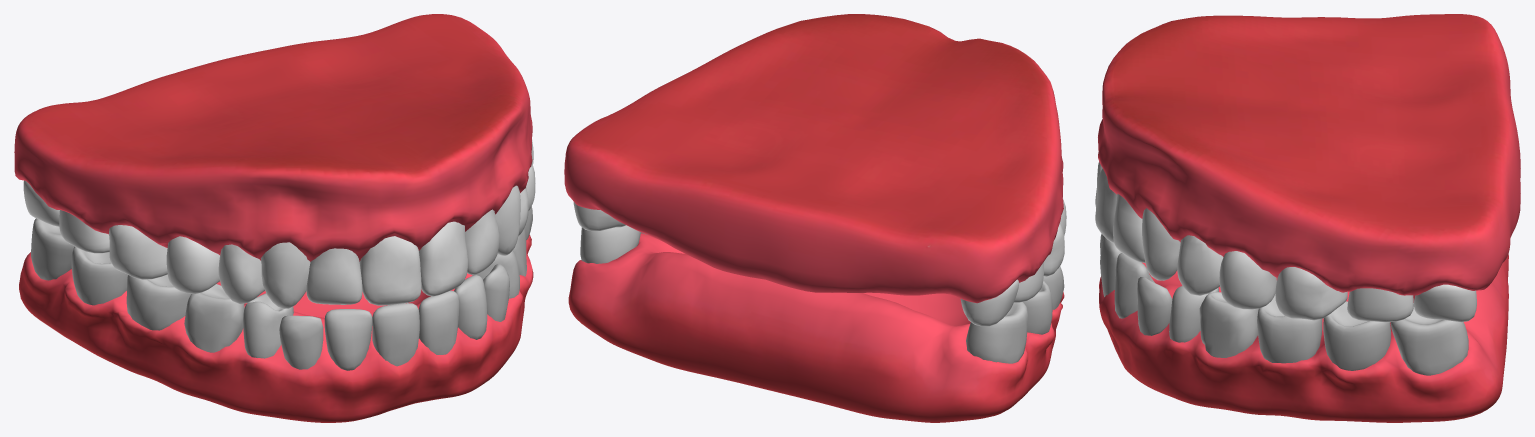
Rendered from mouth_model_optimized.glb.
3 views of the same model, side by side, from view 1: azimuth 30°, elevation 25°; view 2: azimuth 150°, elevation 25°; view 3: azimuth 270°, elevation 25° (orthographic). The views are drawn at different scales.
Visible parts, largest first — view 1: gum_upper, gum_lower, tooth_11, tooth_45, tooth_21, tooth_12, tooth_46, tooth_13, tooth_41, tooth_16, tooth_42, tooth_15 (+13 smaller); view 2: gum_upper, gum_lower, tooth_48, tooth_38, tooth_18, tooth_47, tooth_28, tooth_16, tooth_17, tooth_46; view 3: gum_upper, gum_lower, tooth_38, tooth_37, tooth_36, tooth_35, tooth_26, tooth_25, tooth_24, tooth_27, tooth_28, tooth_23 (+6 smaller).
Part boxes in pixels (x1,y1,x2,y2): gum_upper: (14,14,532,261); gum_lower: (19,234,533,422); tooth_11: (359,236,421,305); tooth_45: (184,284,244,352); tooth_21: (419,221,467,296); tooth_12: (306,248,362,304); tooth_46: (126,274,190,330); tooth_13: (260,242,310,308); tooth_41: (372,303,419,366); tooth_16: (109,225,167,279); tooth_42: (324,309,372,370); tooth_15: (166,236,219,293); gum_upper: (564,14,1063,303); gum_lower: (568,233,1064,422); tooth_48: (966,302,1027,363); tooth_38: (580,225,640,263); tooth_18: (960,279,1019,326); tooth_47: (1023,280,1052,334); tooth_28: (573,202,625,231); tooth_16: (1043,223,1064,276); tooth_17: (1014,262,1043,302); tooth_46: (1043,266,1064,309); gum_upper: (1098,14,1520,295); gum_lower: (1099,254,1508,422); tooth_38: (1390,303,1468,375); tooth_37: (1323,301,1390,370); tooth_36: (1257,294,1322,363); tooth_35: (1199,292,1258,357); tooth_26: (1275,267,1347,320); tooth_25: (1219,251,1276,309); tooth_24: (1177,235,1223,295); tooth_27: (1347,288,1413,322); tooth_28: (1414,284,1476,322); tooth_23: (1142,208,1180,280).
Size of the model in its own units: 1.16 by 0.6208 by 0.9015.
Materials: 2 (2 with a texture image).
